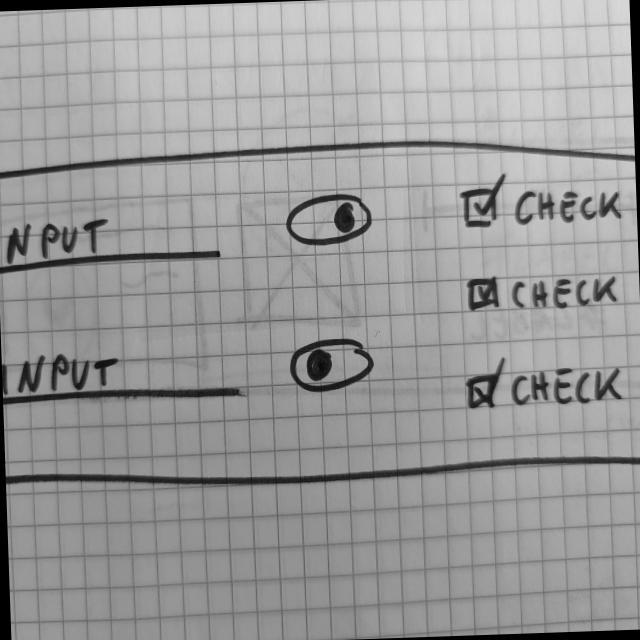checkbox: (457, 166, 624, 233), (466, 351, 632, 415), (466, 268, 628, 318)
container: (1, 127, 640, 492)
input: (2, 344, 247, 413), (1, 208, 223, 280)
toggle: (285, 333, 382, 397), (285, 191, 377, 251)
